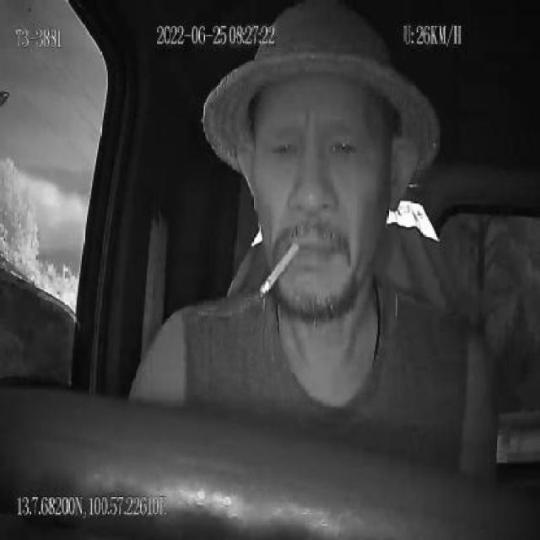smoking: (258, 238, 301, 298)
